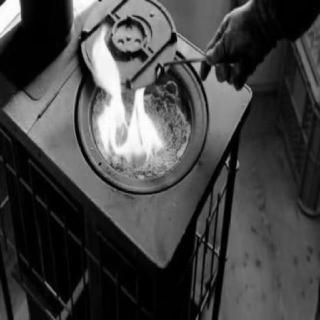Fire: (86, 26, 166, 164)
